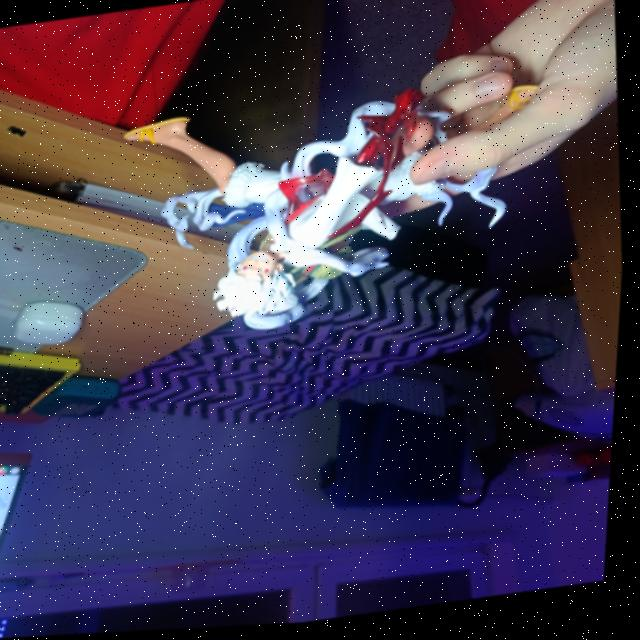luffy: (109, 62, 537, 352)
